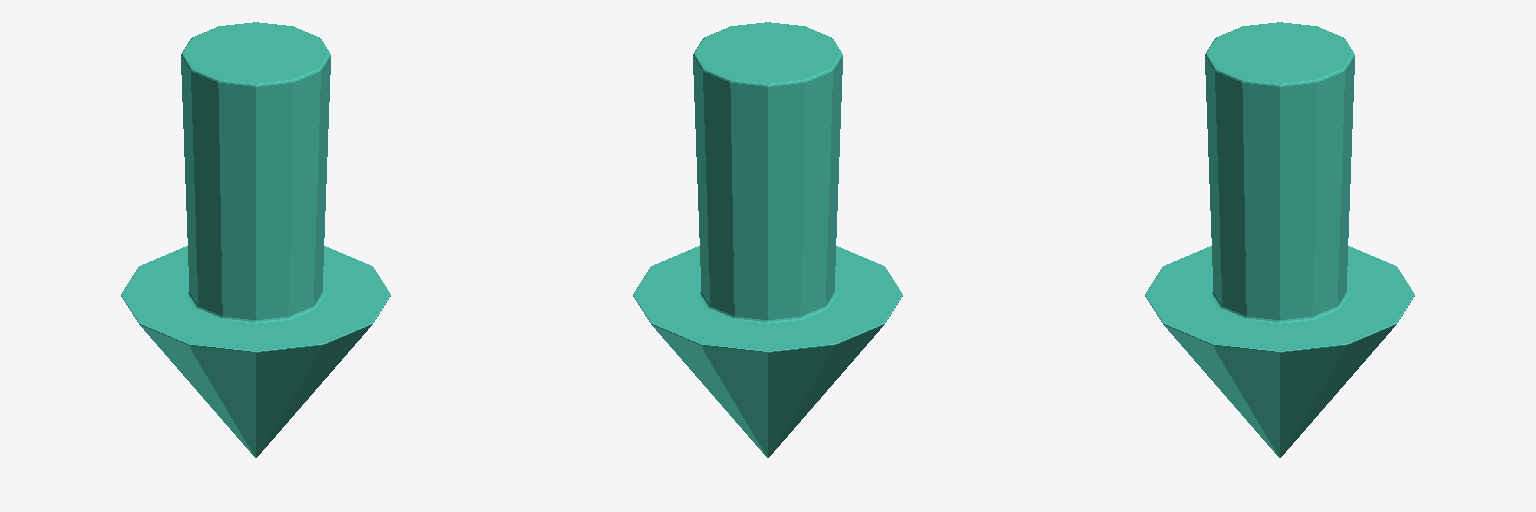
File: DebugArrow.obj
3 renders of one model, left to right at view 1: azimuth 30°, elevation 25°; view 2: azimuth 150°, elevation 25°; view 3: azimuth 270°, elevation 25°, orthographic.
Visible parts, largest first — view 1: Cone; view 2: Cone; view 3: Cone.
Part boxes in pixels (bbox=[...]): Cone: bbox=[121, 22, 390, 457]; Cone: bbox=[633, 22, 902, 457]; Cone: bbox=[1145, 22, 1414, 457].
Bounding box in the file's own units: 2.98 × 4.94 × 2.98.